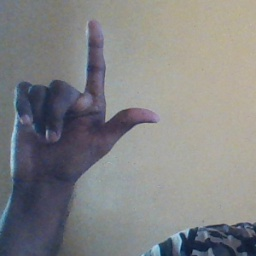L: (8, 19, 161, 178)
